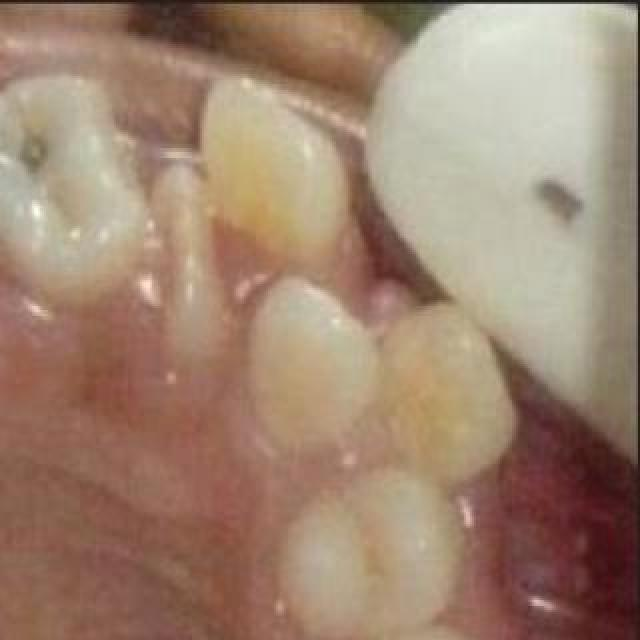cavities: (0, 96, 98, 218)
maligned: (123, 56, 375, 278), (381, 282, 545, 486), (223, 248, 379, 450), (131, 156, 237, 366), (0, 36, 18, 286)
